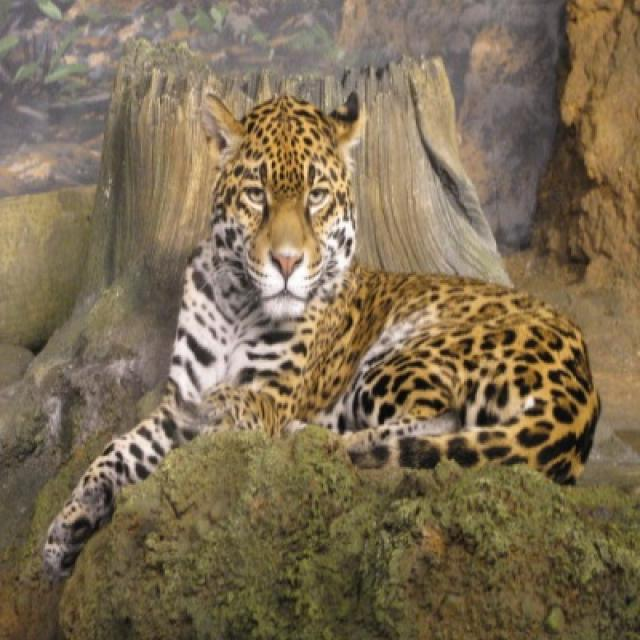Jaguar: (40, 93, 603, 594)
